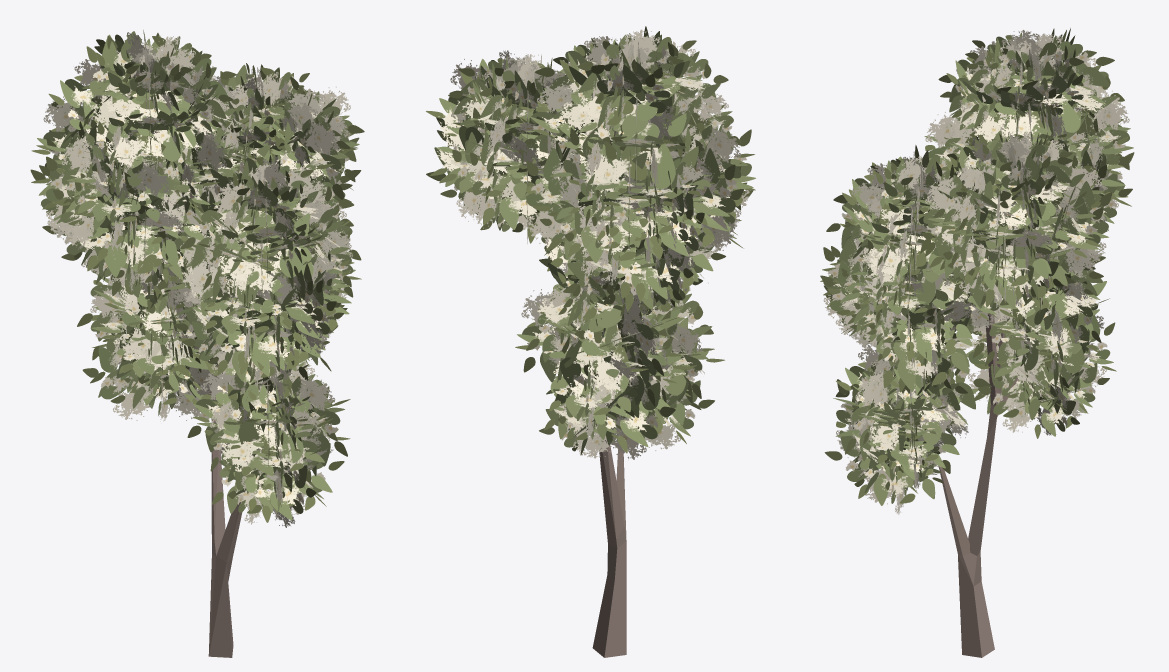
Rendered from jarrah.glb.
The picture shows the model from 3 angles, left to right: view 1: azimuth 30°, elevation 25°; view 2: azimuth 150°, elevation 25°; view 3: azimuth 270°, elevation 25°; orthographic projection. The views are drawn at different scales.
Visible parts, largest first — view 1: Jarrah, Jarrah.log; view 2: Jarrah, Jarrah.log; view 3: Jarrah, Jarrah.log.
Boxes of the visible parts, box(x1,y1,x2,y2) form: Jarrah: box(30, 30, 364, 527); Jarrah.log: box(196, 364, 244, 657); Jarrah: box(426, 26, 755, 459); Jarrah.log: box(592, 131, 626, 657); Jarrah: box(820, 28, 1134, 514); Jarrah.log: box(938, 310, 1018, 657).
Bounding box in the file's own units: 7.96 × 14.55 × 7.59.
Materials: 2 (1 with a texture image).
